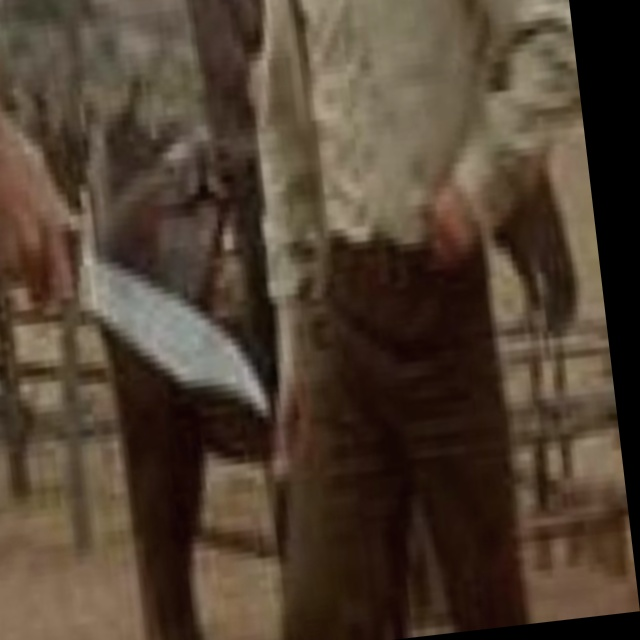Sharp-Object: (63, 175, 270, 438)
